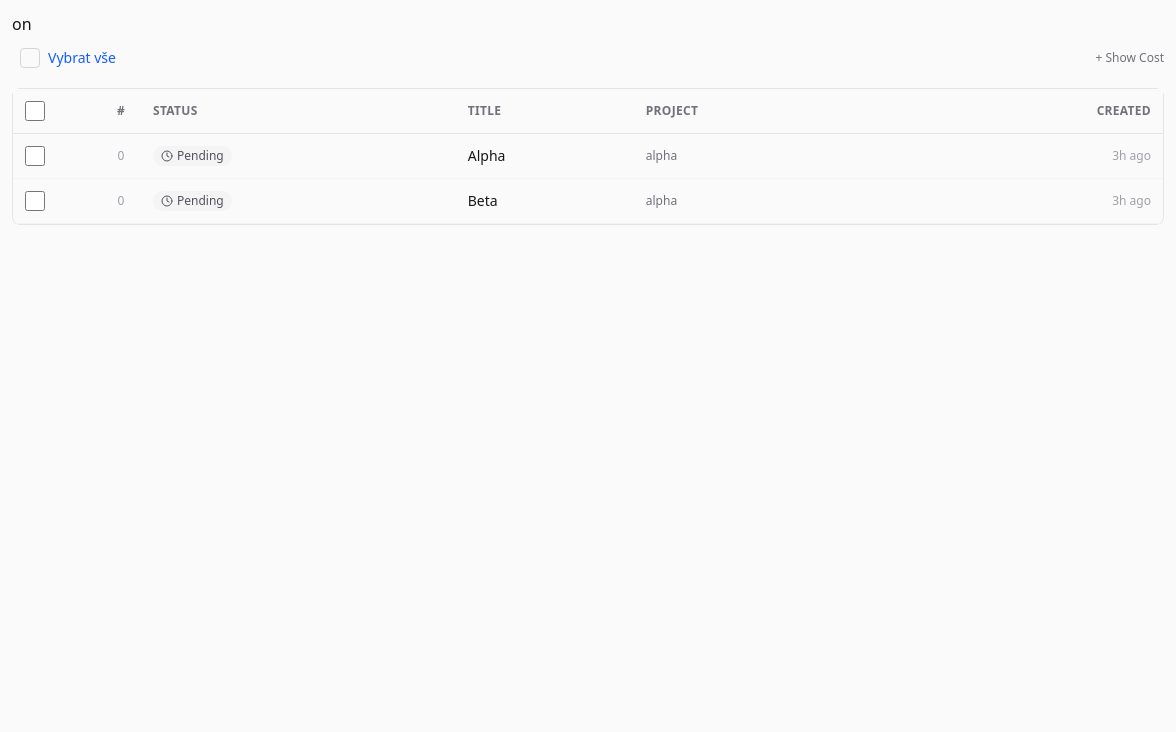
it: TaskList selection mode › shows the bulk bar with the count and exits selection mode via its clear button
This screenshot has width=1176, height=732.
Click the row "0 Pending Alpha alpha 3h ago". click: (588, 156)
box: [13,134,1163,178]
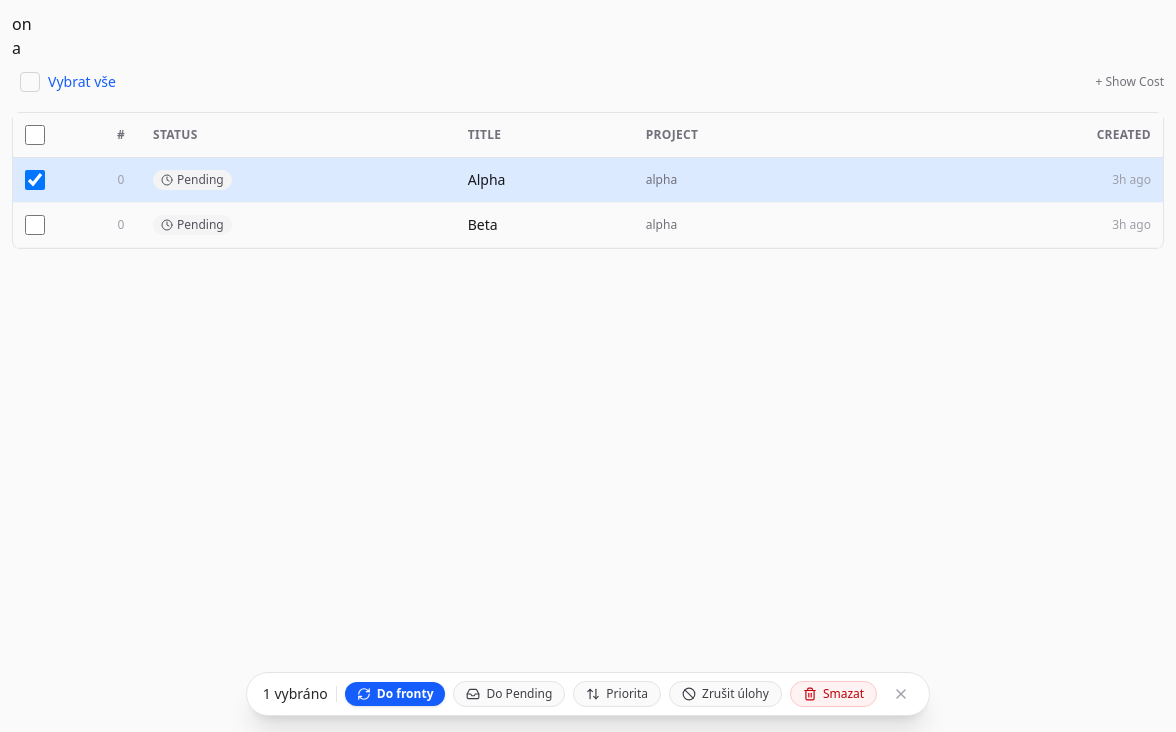
Now the text "1 vybráno" is shown, box [263,684,328,704]
Now the button "Do fronty" is shown, box [345,682,445,706]
Click the button titled "Zrušit výběr". click: (901, 694)
box: [889,682,913,706]
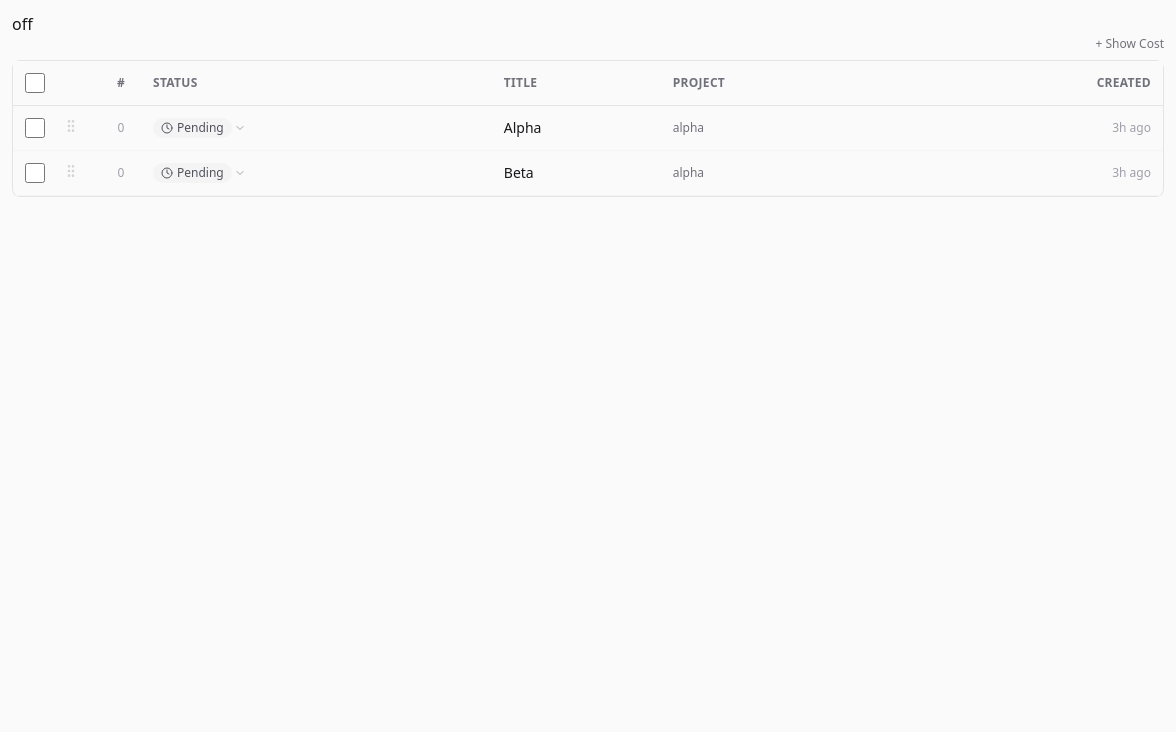
Now the text with test id "mode" reads "off", box [12,13,33,35]
